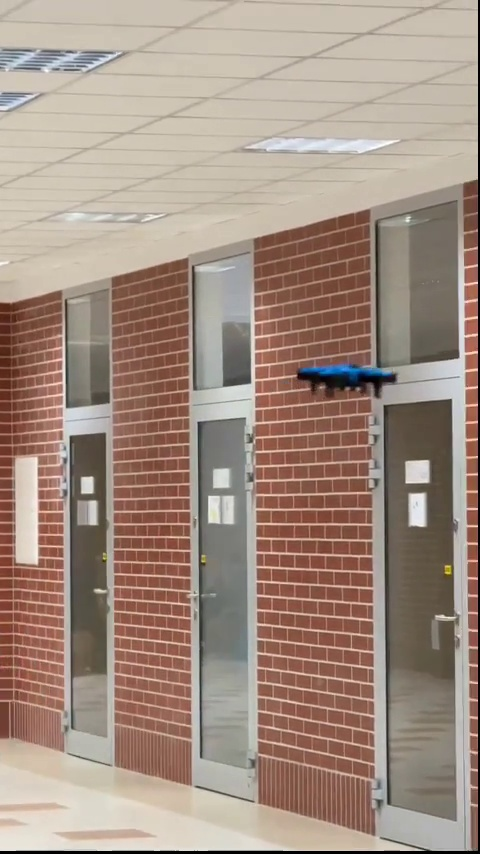drone: (300, 359, 398, 396)
